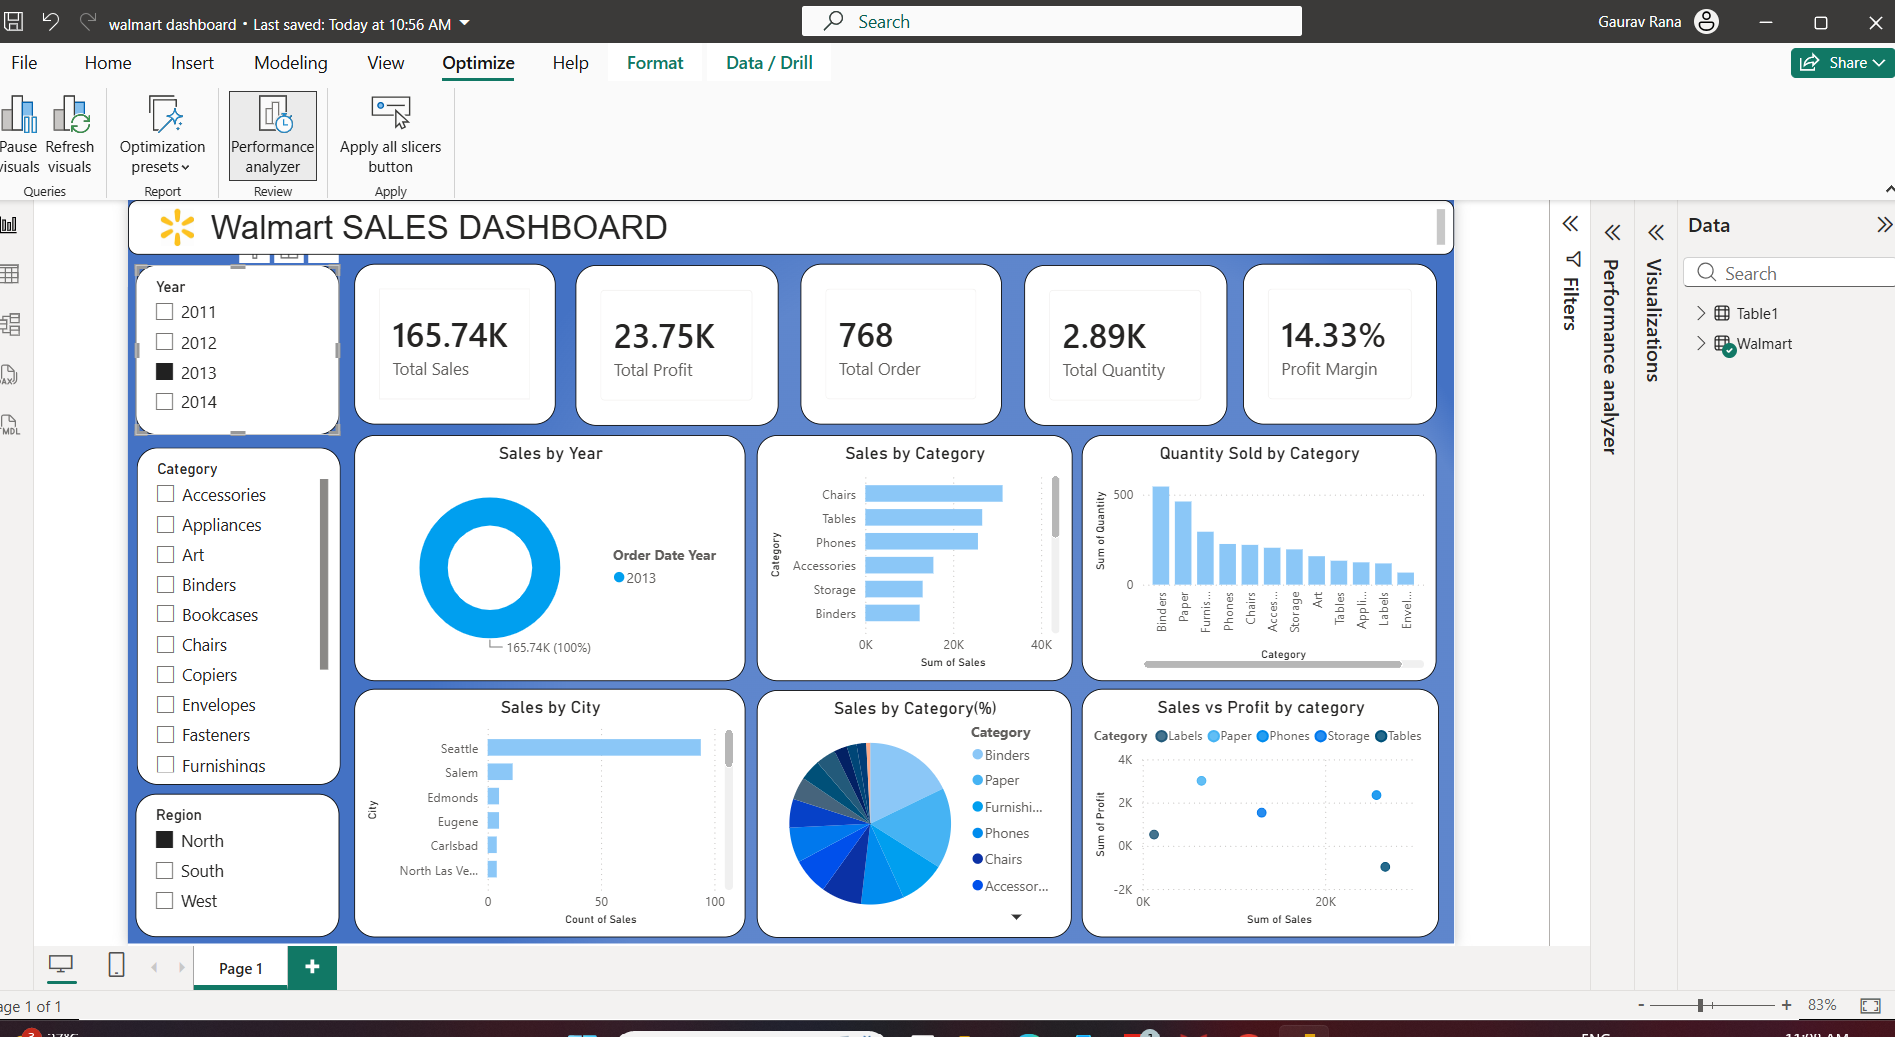

The dashboard page shown, as its layout file describes it:
{"tool":"powerbi","page":{"name":"Page 1","canvas":[1280,720],"ordinal":0},"visuals":[{"type":"slicer","fields":{"Values":["Walmart.Order Date.Variation.Date Hierarchy.Year"]},"box":[7.2,62.7,196.6,164.1],"z":0},{"type":"slicer","fields":{"Values":["Walmart.Category"]},"box":[8.4,238.9,196.6,325.7],"z":1000},{"type":"slicer","fields":{"Values":["Table1.Region"]},"box":[7.2,573.1,196.6,138.7],"z":2000},{"type":"cardVisual","title":"Total Sales","fields":{"Data":["Walmart.Total Sales"]},"box":[218.9,61.1,194.4,155.3],"z":3000},{"type":"cardVisual","fields":{"Data":["CountNonNull(Walmart.Order ID)"]},"box":[649.3,61.1,194.4,155.3],"z":4000},{"type":"cardVisual","fields":{"Data":["Sum(Walmart.Quantity)"]},"box":[864.5,62.4,195.7,155.3],"z":5000},{"type":"cardVisual","fields":{"Data":["Walmart.Profit Margin %"]},"box":[1076.1,61.1,187.1,155.3],"z":6000},{"type":"cardVisual","fields":{"Data":["Walmart.Total Profit"]},"box":[431.7,62.4,195.7,155.3],"z":7000},{"type":"scatterChart","title":"Sales vs Profit by category","fields":{"X":["Sum(Walmart.Sales)"],"Y":["Sum(Walmart.Profit)"],"Series":["Walmart.Category"]},"box":[920.5,471.7,345,240.1],"z":8000},{"type":"donutChart","title":"Sales by Year","fields":{"Category":["Walmart.Order Date.Variation.Date Hierarchy.Year"],"Y":["Sum(Walmart.Sales)"]},"box":[218.9,226.2,377.9,237.2],"z":9000},{"type":"clusteredBarChart","title":"Sales by Category","fields":{"Category":["Walmart.Category"],"Y":["Sum(Walmart.Sales)"]},"box":[606.5,226.2,304.5,237.2],"z":10000},{"type":"clusteredColumnChart","title":"Quantity Sold by Category","fields":{"Y":["Sum(Walmart.Quantity)"],"Category":["Walmart.Category"]},"box":[920.8,226.2,342.4,237.2],"z":11000},{"type":"clusteredBarChart","title":"Sales by City","fields":{"Y":["Count(Walmart.Sales)"],"Category":["Walmart.City"]},"box":[218.4,471.7,377.6,240.1],"z":12000},{"type":"pieChart","title":"Sales by Category(%)","fields":{"Category":["Walmart.Category"],"Y":["CountNonNull(Walmart.Sales)"]},"box":[606.8,472.9,304,238.9],"z":13000},{"type":"textbox","box":[0,0,1280,53.1],"z":14000},{"type":"image","box":[20.5,8.4,54.3,36.2],"z":15000}]}

Visuals, with their boxes on the page's 1280x720 design canvas (x1, y1, x2, y2). These are canvas units, not pixel positions in the 1895x1037 screenshot, which may show the page scaled, cropped or inside an application window:
slicer - Walmart.Order Date.Variation.Date Hierarchy.Year: [7,63,204,227]
slicer - Walmart.Category: [8,239,205,565]
slicer - Table1.Region: [7,573,204,712]
"Total Sales" cardVisual: [219,61,413,216]
cardVisual - CountNonNull(Walmart.Order ID): [649,61,844,216]
cardVisual - Sum(Walmart.Quantity): [864,62,1060,218]
cardVisual - Walmart.Profit Margin %: [1076,61,1263,216]
cardVisual - Walmart.Total Profit: [432,62,627,218]
"Sales vs Profit by category" scatterChart: [920,472,1266,712]
"Sales by Year" donutChart: [219,226,597,463]
"Sales by Category" clusteredBarChart: [606,226,911,463]
"Quantity Sold by Category" clusteredColumnChart: [921,226,1263,463]
"Sales by City" clusteredBarChart: [218,472,596,712]
"Sales by Category(%)" pieChart: [607,473,911,712]
textbox: [0,0,1280,53]
image: [20,8,75,45]
